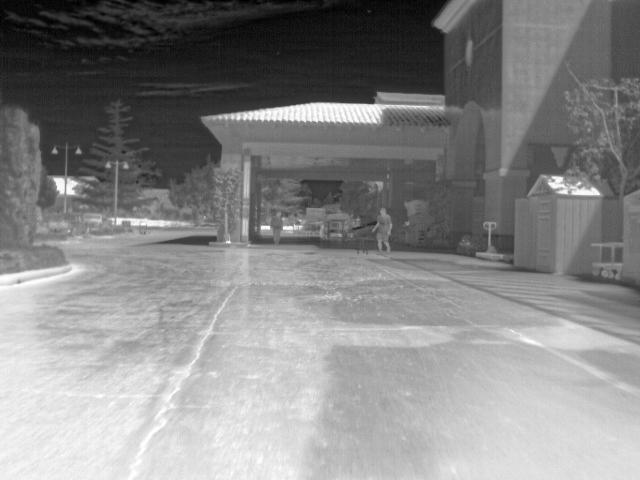car: (83, 211, 113, 231), (45, 214, 71, 234)
person: (373, 206, 394, 257), (271, 209, 284, 246)
